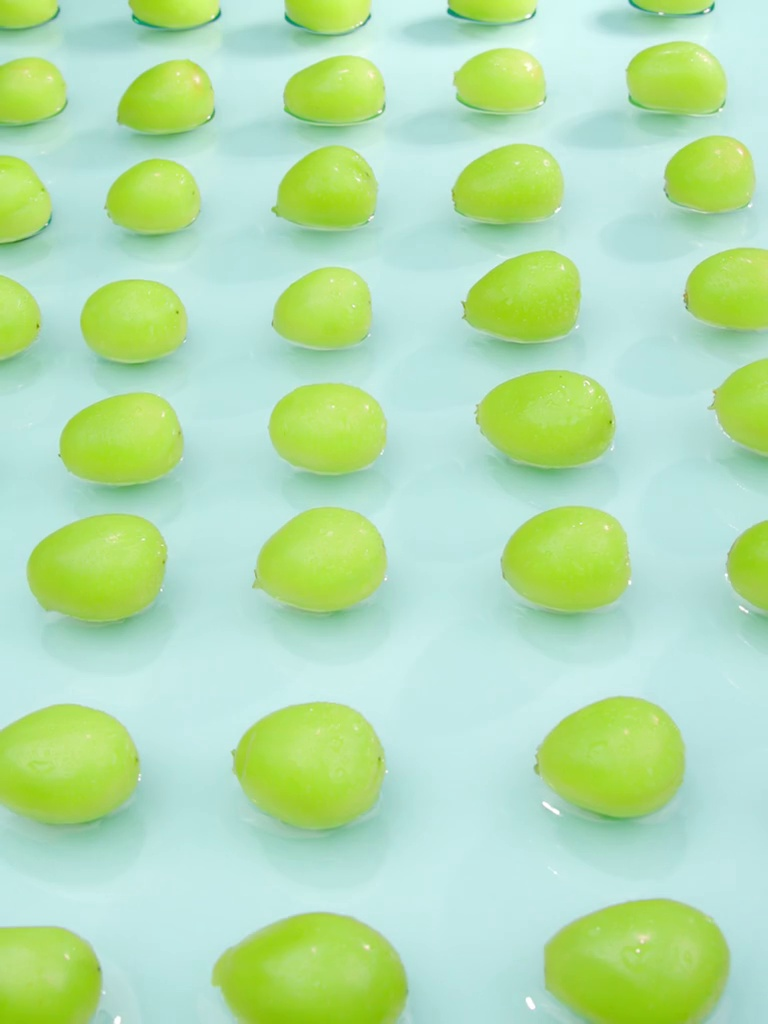grape: (253, 501, 390, 612)
